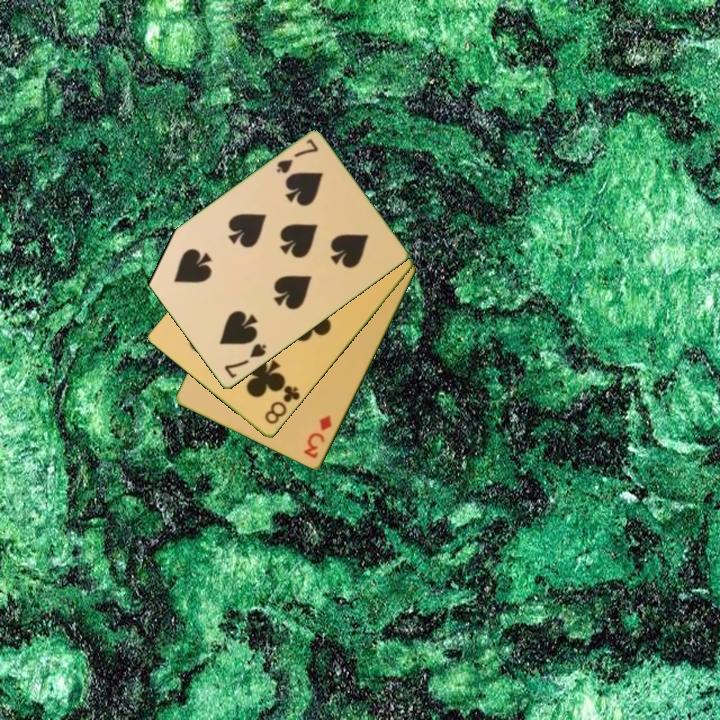3d: (300, 412, 335, 462)
7s: (221, 340, 269, 382), (272, 136, 321, 177)
8c: (261, 382, 303, 427)
